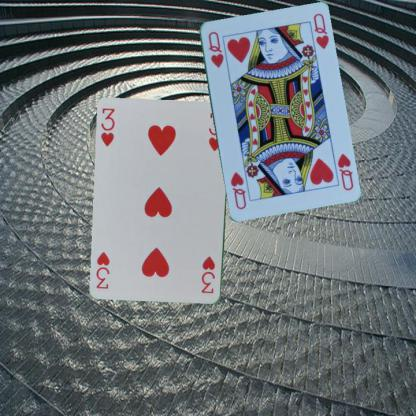3h: (98, 106, 116, 148), (198, 254, 216, 295)
Qh: (205, 28, 225, 69), (335, 151, 354, 192)
